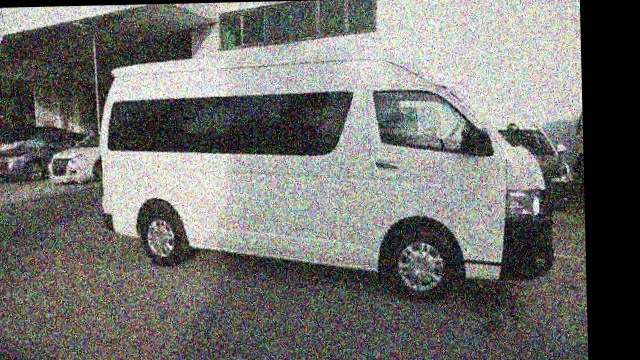van: (99, 40, 558, 309)
